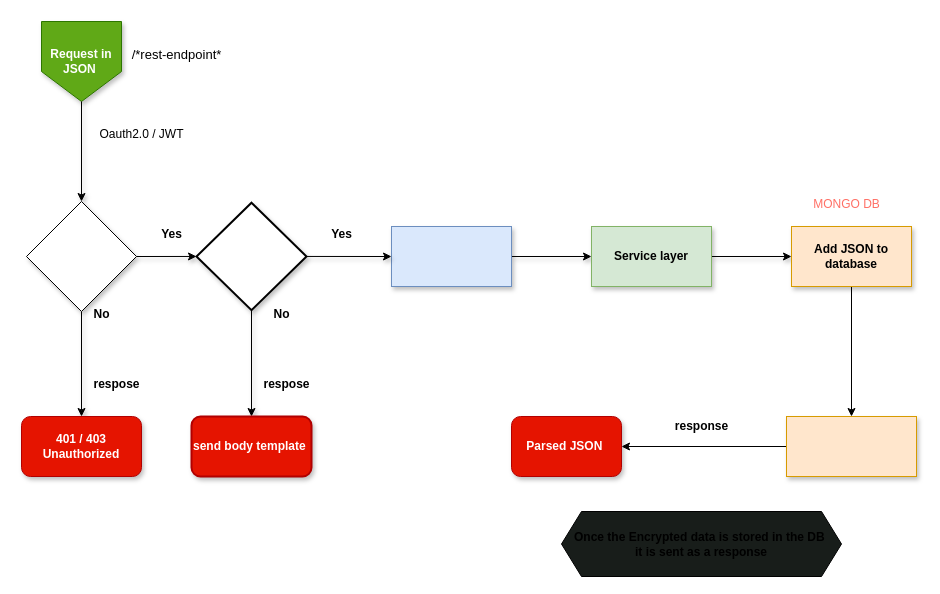
Image size: 940x594. Some labels were removed from this diagram. The shapes that lost their labels are listed below. From the top down, each one's centre as x and y in pixels, then its label:
the point at 82,257: Valid Request?
the point at 252,257: Valid Request Body?
the point at 452,258: Controller layer
the point at 852,448: Read the added data from the database
